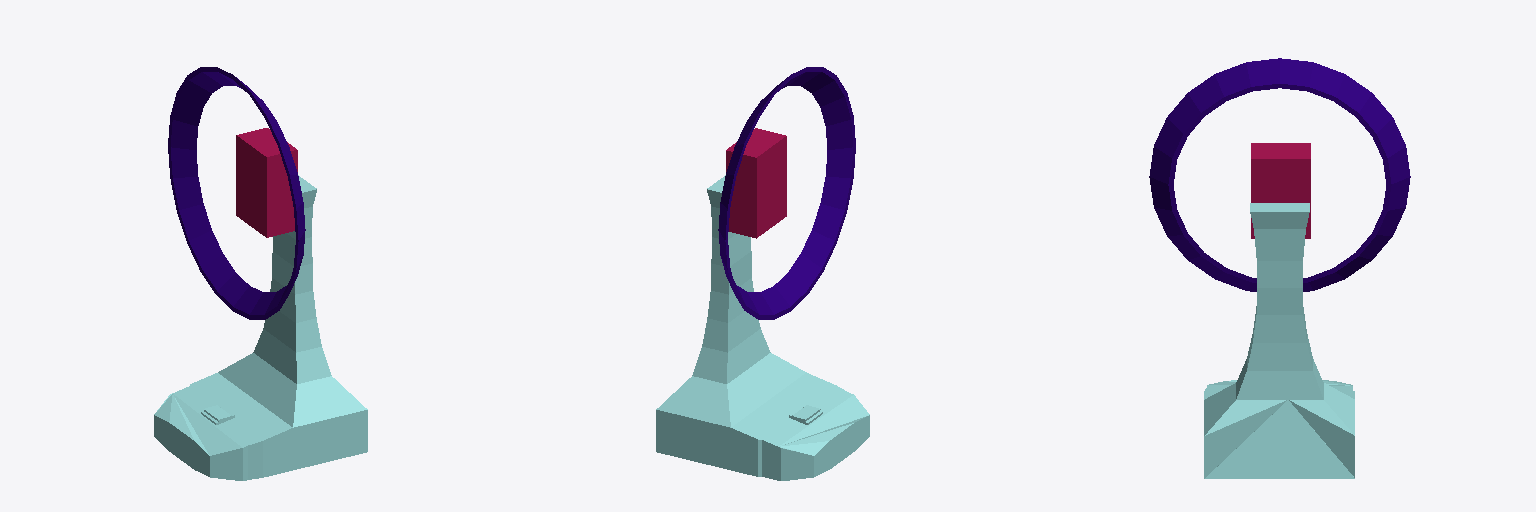
The model's file is Fan.obj.
3 views of the same model, side by side, from view 1: azimuth 30°, elevation 25°; view 2: azimuth 150°, elevation 25°; view 3: azimuth 270°, elevation 25° (orthographic).
Visible parts, largest first — view 1: Box001, Cone001, Box002; view 2: Box001, Cone001, Box002; view 3: Box001, Cone001, Box002.
Boxes of the visible parts, box(x1,y1,x2,y2) form: Box001: box(154, 175, 367, 480); Cone001: box(168, 67, 305, 319); Box002: box(236, 128, 297, 237); Box001: box(656, 175, 869, 480); Cone001: box(718, 67, 855, 319); Box002: box(726, 128, 786, 238); Box001: box(1204, 203, 1354, 478); Cone001: box(1149, 58, 1410, 291); Box002: box(1251, 143, 1310, 238).
Size of the model in its own units: 30.15 by 72.54 by 46.02.